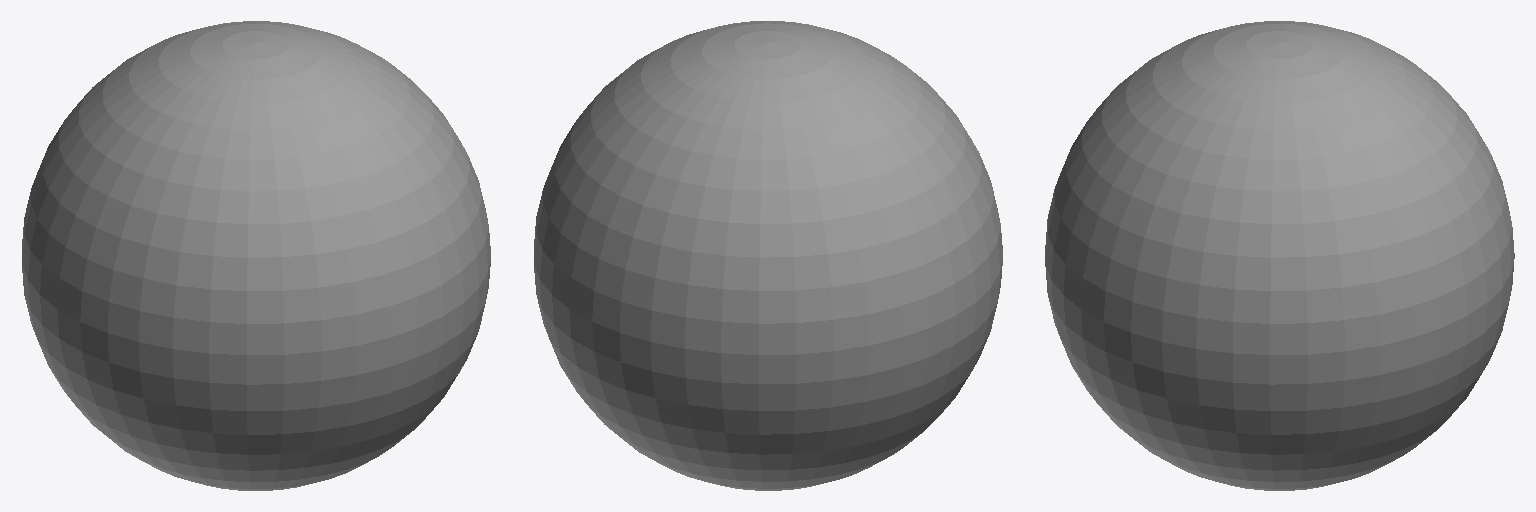
The model's file is planet.obj.
3 renders of one model, left to right at view 1: azimuth 30°, elevation 25°; view 2: azimuth 150°, elevation 25°; view 3: azimuth 270°, elevation 25°, orthographic.
Parts seen in each view (by area): view 1: Sphere; view 2: Sphere; view 3: Sphere.
Boxes of the visible parts, <box> form: Sphere: <box>22,21,490,490</box>; Sphere: <box>534,21,1002,490</box>; Sphere: <box>1045,21,1514,490</box>.
Size of the model in its own units: 2 by 2 by 2.